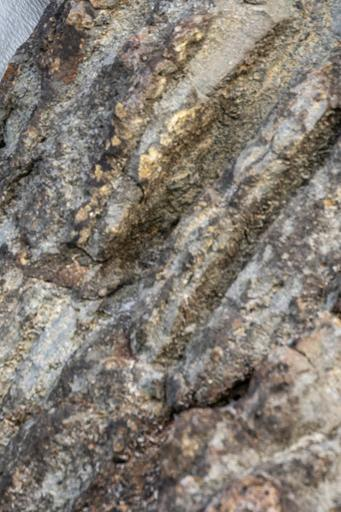Southern Rockhopper Penguin: (0, 0, 93, 278)
